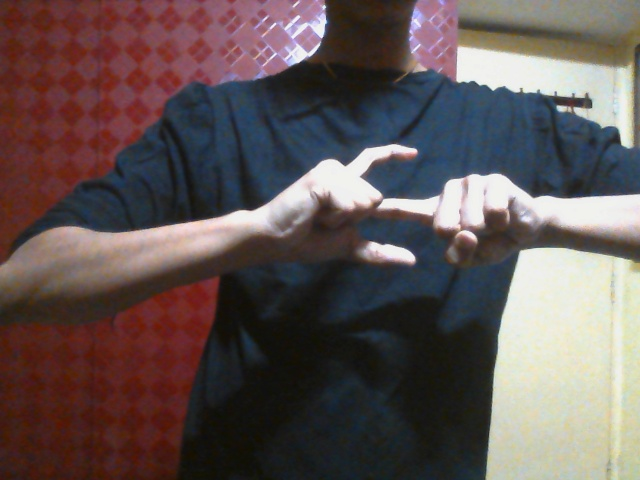E: (268, 143, 531, 277)
